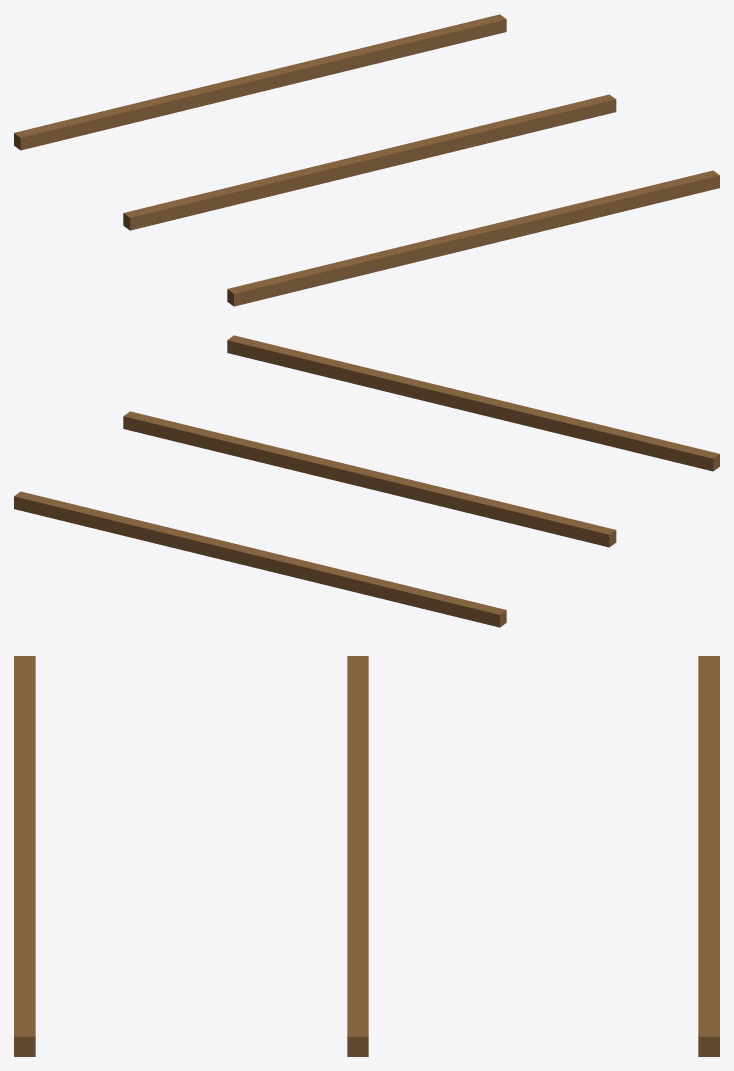
Rendered from workshop_beams.glb.
3 views of the same model, one above another, from view 1: azimuth 30°, elevation 25°; view 2: azimuth 150°, elevation 25°; view 3: azimuth 270°, elevation 25° (orthographic). The views are drawn at different scales.
Parts seen in each view (by area): view 1: workshop_beams; view 2: workshop_beams; view 3: workshop_beams.
Boxes of the visible parts, x1,y1,x2,y2 form: workshop_beams: [14, 14, 719, 306]; workshop_beams: [14, 335, 719, 627]; workshop_beams: [14, 656, 719, 1056].
Bounding box in the file's own units: 10 × 0.25 × 7.84.
